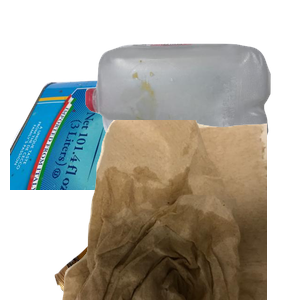glass: (52, 147, 292, 300)
metal: (10, 64, 250, 244)
plastic: (83, 41, 300, 194)
trash: (60, 120, 300, 300)
